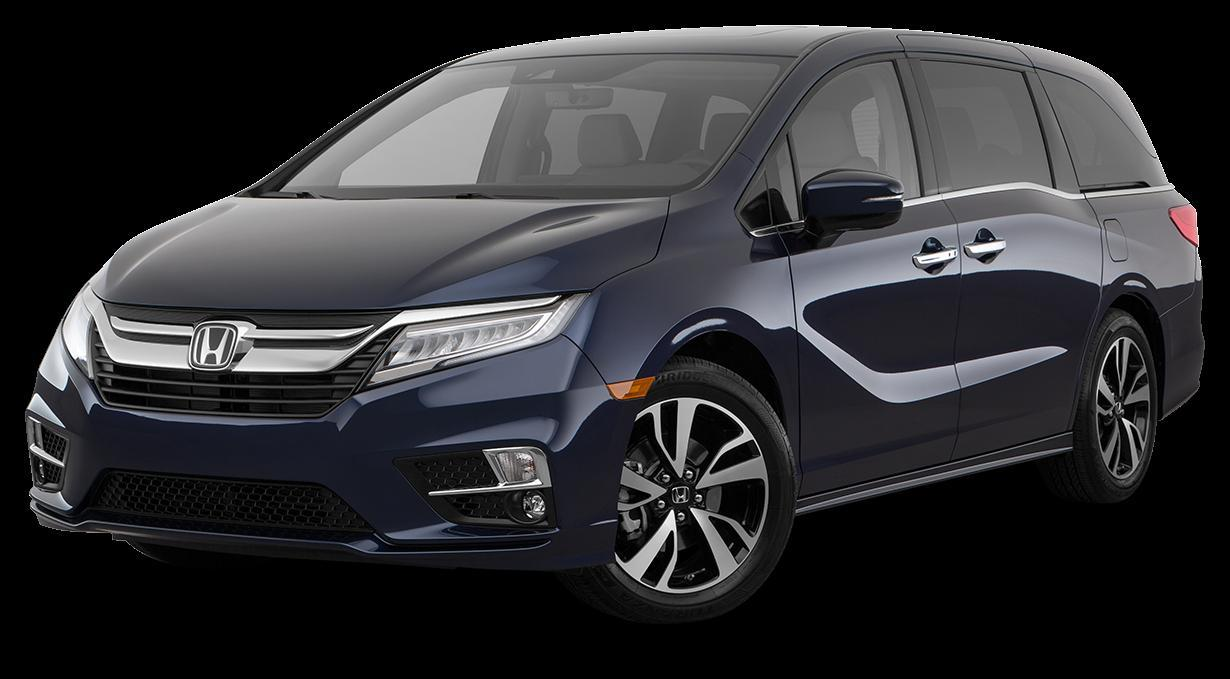Minivan: (23, 27, 1205, 623)
